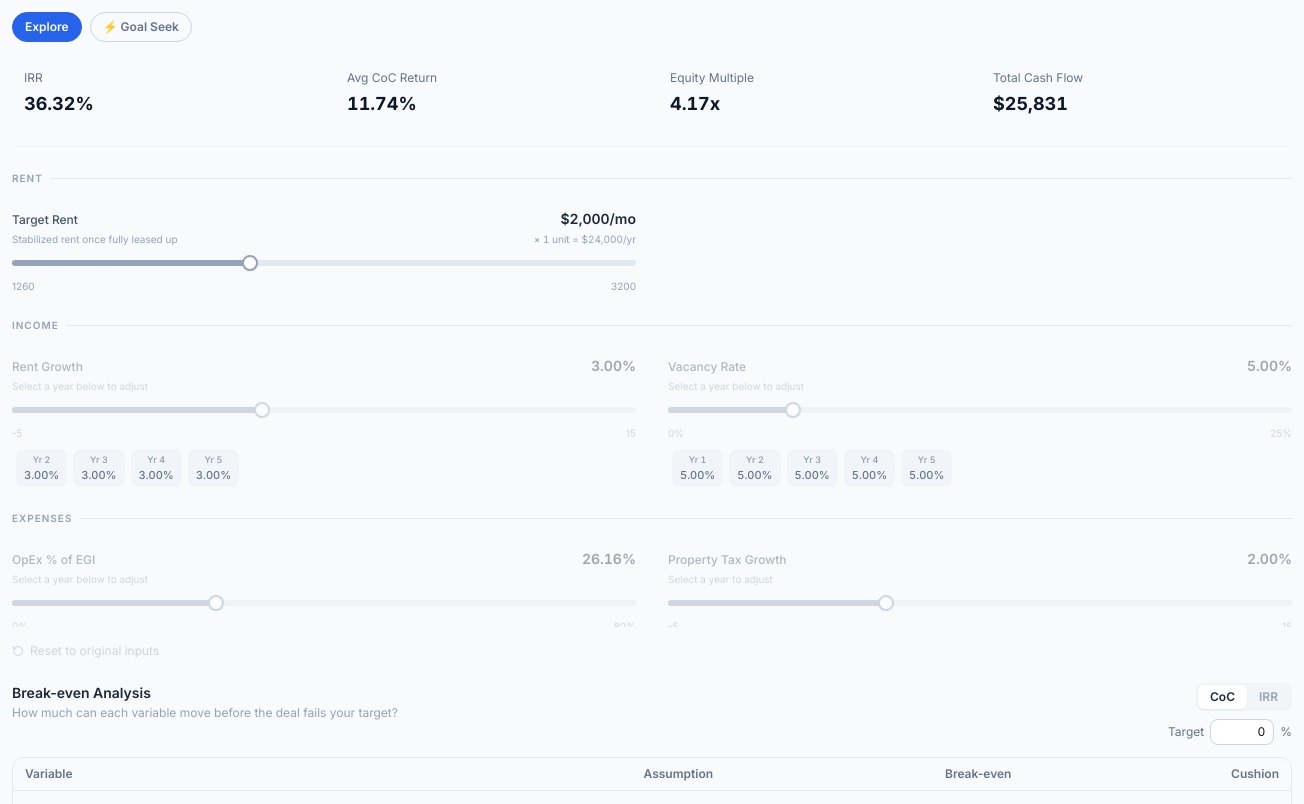
Scenario: WhatIfPanel — mode toggle › switching back to Explore mode restores the break-even table
Click the button "⚡ Goal Seek" at (141,27), box [90,12,192,42]
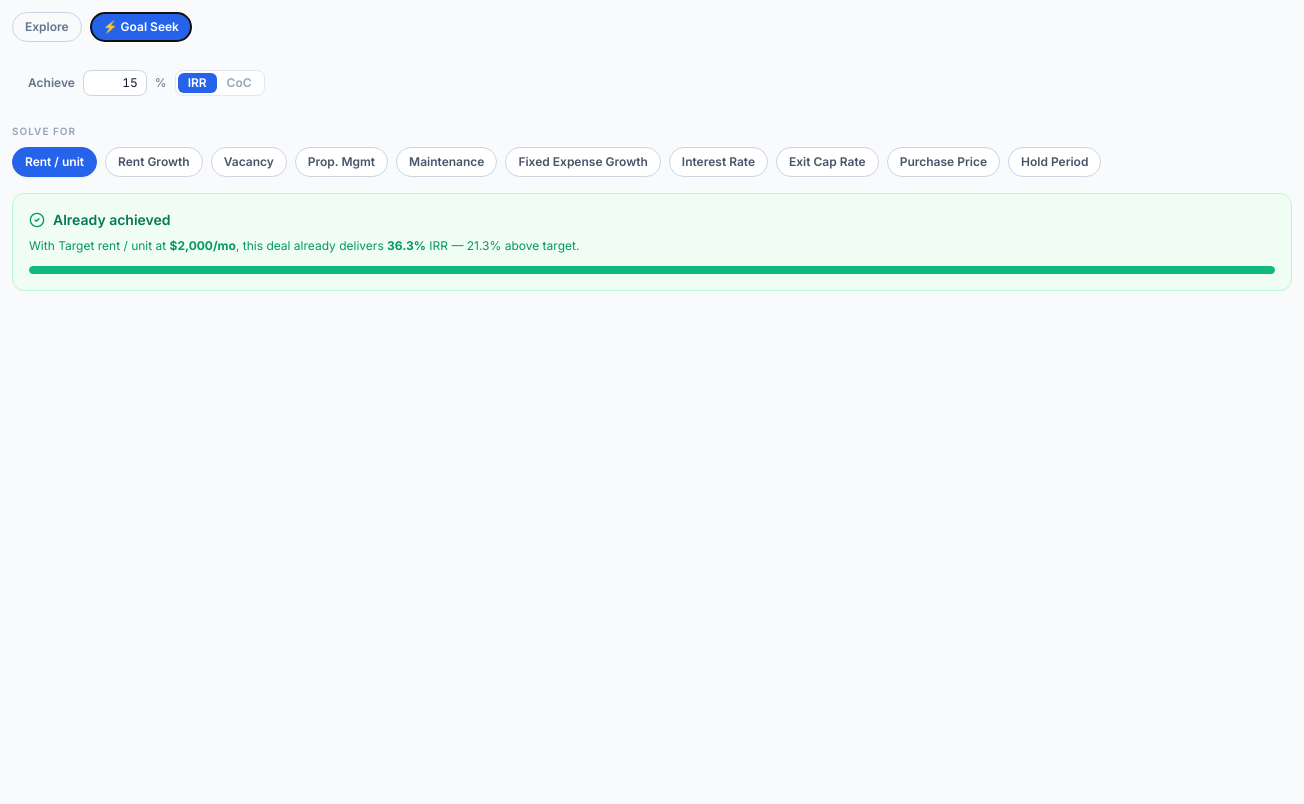
Click the button "Explore" at (47,27), box [12,12,82,42]
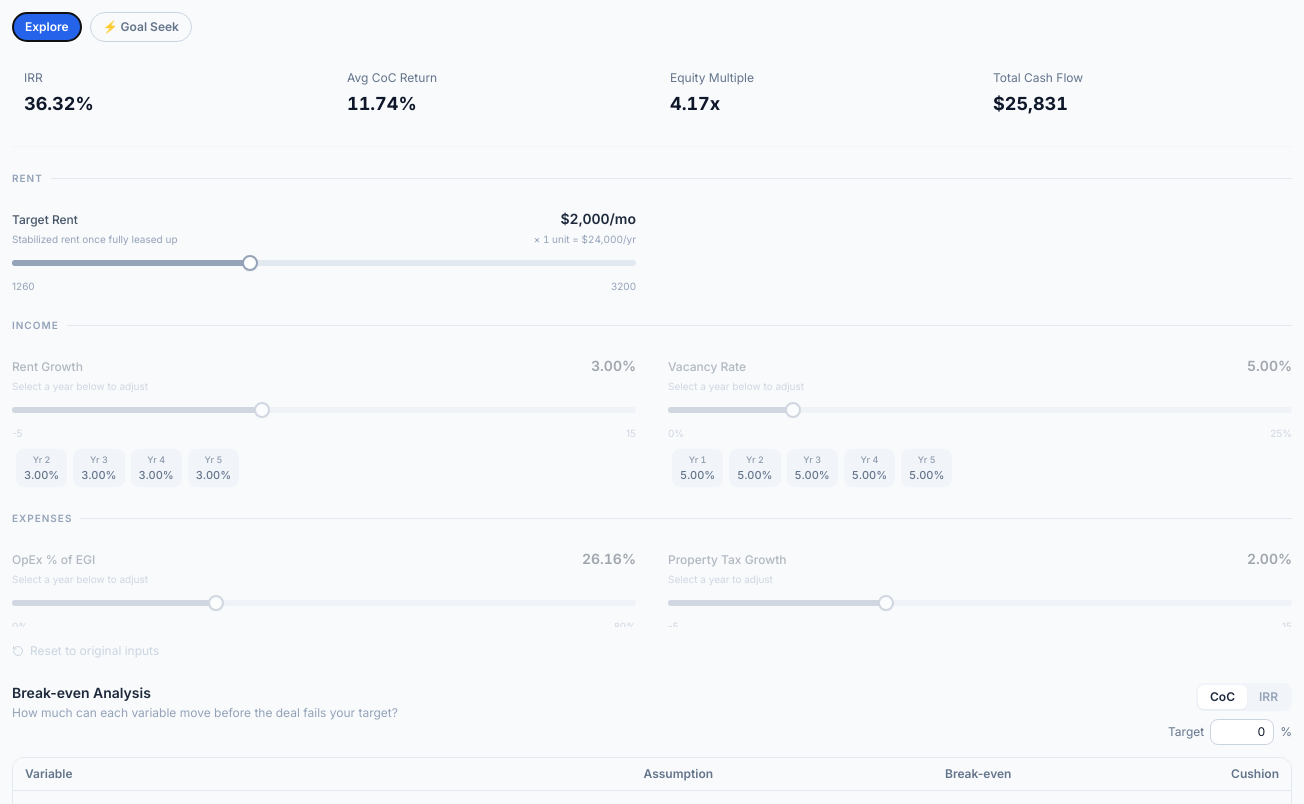
Check: the text "Break-even Analysis" is shown, box [12,684,151,701]
